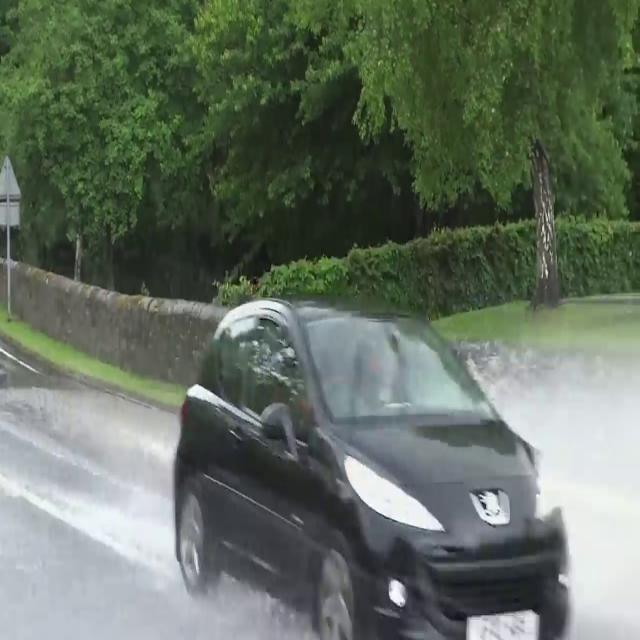license-plate-annotation: (465, 613, 538, 640)
